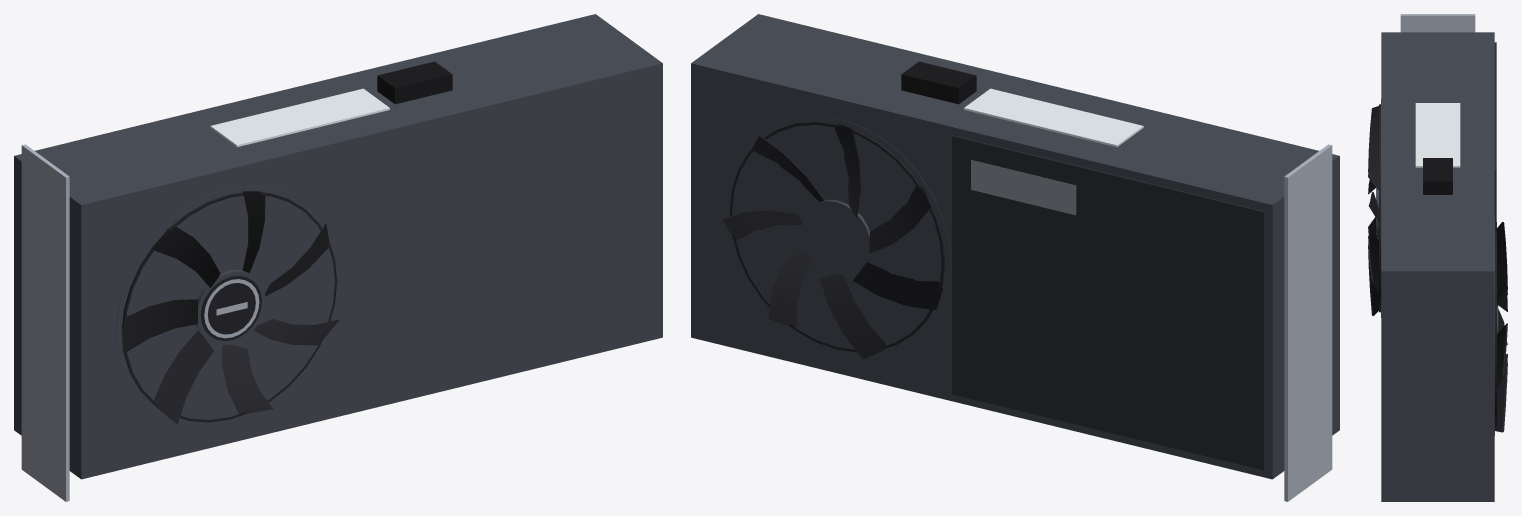
File: GPU_NVIDIA_GEFORCE_RTX_5090_DESKTOP_BLACKWELL.obj
The picture shows the model from 3 angles, left to right: view 1: azimuth 30°, elevation 25°; view 2: azimuth 150°, elevation 25°; view 3: azimuth 270°, elevation 25°; orthographic projection. The views are drawn at different scales.
Visible parts, largest first — view 1: Main_Card, Fan_Rotor_1; view 2: Main_Card, Fan_Rotor_2; view 3: Main_Card, Fan_Rotor_2, Fan_Rotor_1.
Part boxes in pixels (x1,y1,x2,y2): Main_Card: (14, 14, 662, 501); Fan_Rotor_1: (121, 191, 339, 423); Main_Card: (691, 14, 1339, 501); Fan_Rotor_2: (722, 121, 945, 359); Main_Card: (1381, 14, 1496, 501); Fan_Rotor_2: (1495, 221, 1507, 432); Fan_Rotor_1: (1368, 104, 1380, 315).
Size of the model in its own units: 306 by 162 by 75.26.
